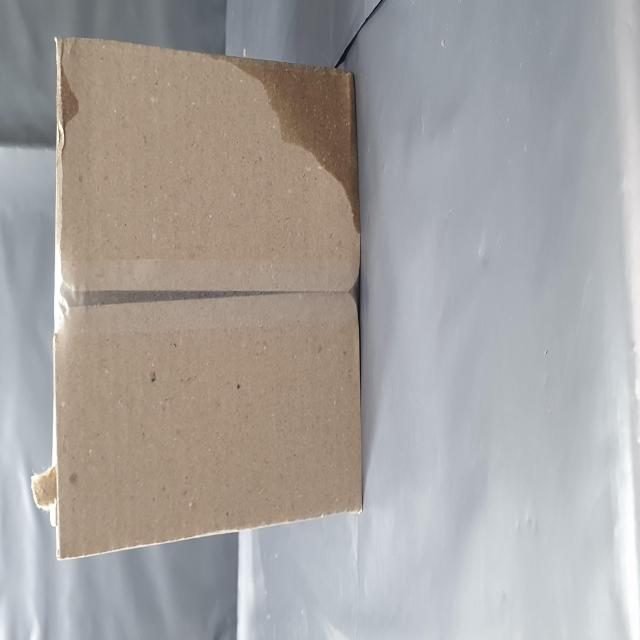wet: (224, 384, 328, 640), (272, 104, 334, 160)
